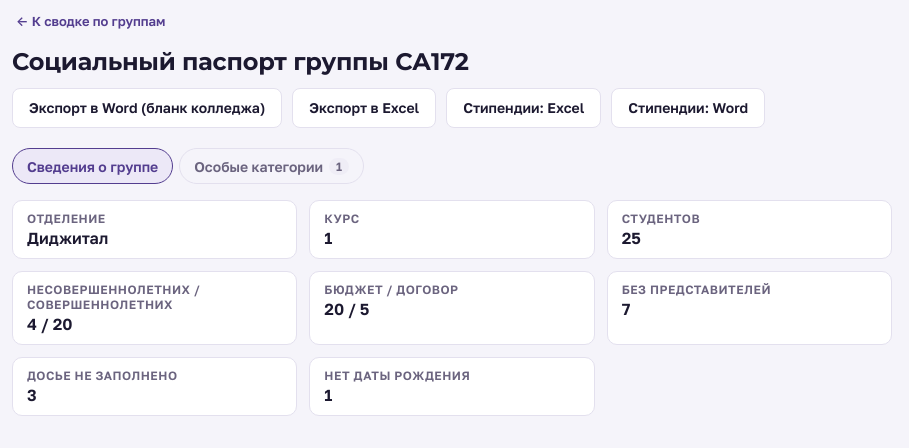
Test: PassportPage — поиск, фильтры и сортировка › в паспорте группы: поиск по студенту и «только с отметками»
Click the tab "Особые категории 1" at (272, 166), box 179,148 -> 364,184
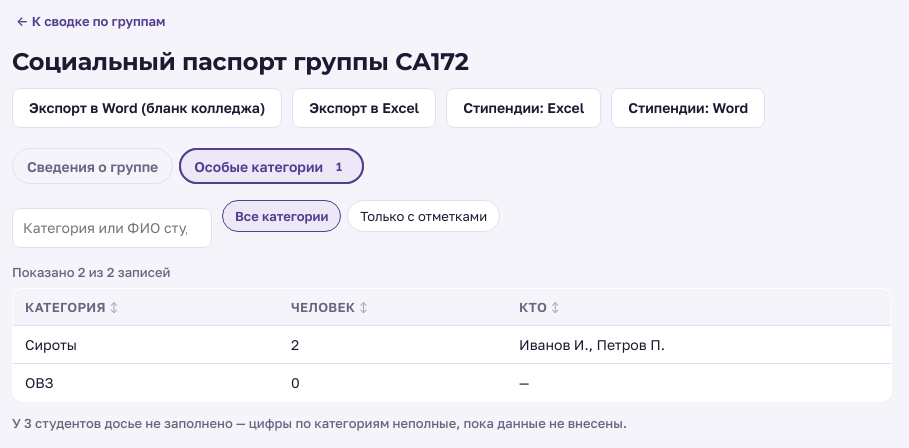
Expected: the cell "ОВЗ" is shown, 12,364 -> 279,402
Click the button "Только с отметками" at (424, 216), box 347,200 -> 500,232
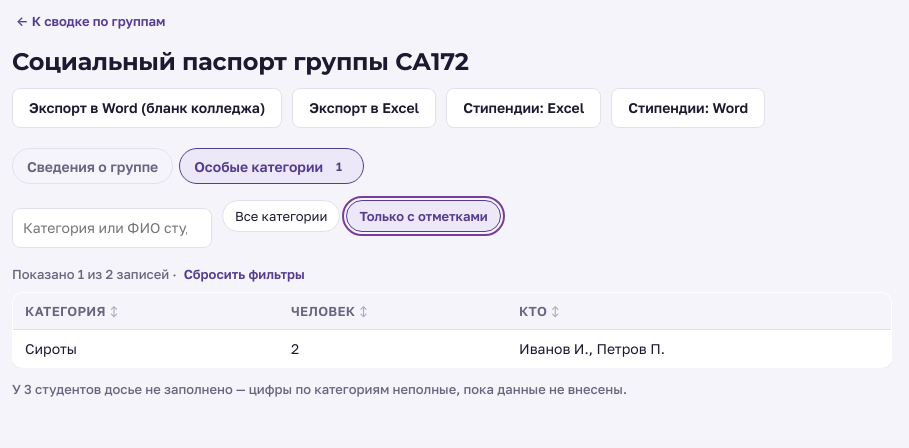
Expected: the cell "ОВЗ" is gone
Click the button "Все категории" at (281, 216), box 222,200 -> 340,232
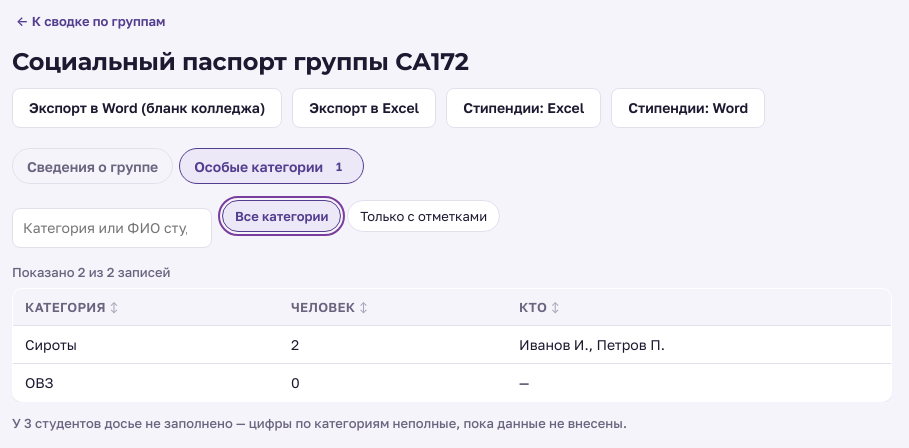
Type "Петров" into the search field named "Поиск по категории или студенту" at (112, 228), box 12,208 -> 212,248
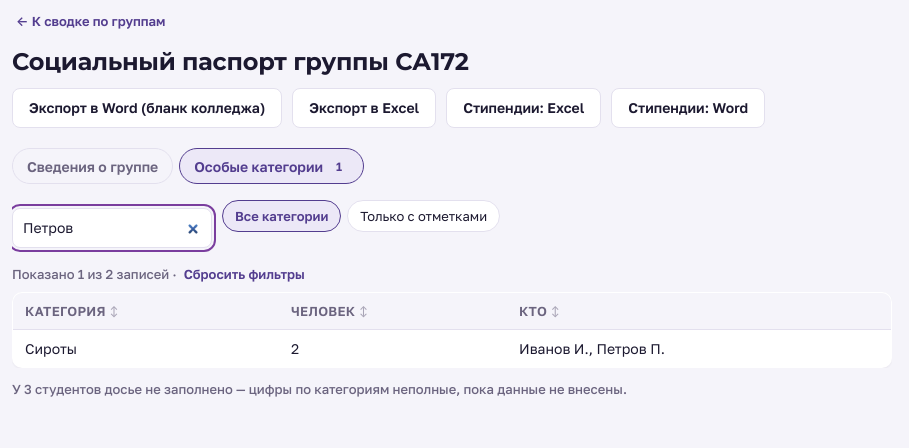
Expected: the cell "Сироты" is shown, 12,330 -> 279,368
Expected: the cell "ОВЗ" is gone
